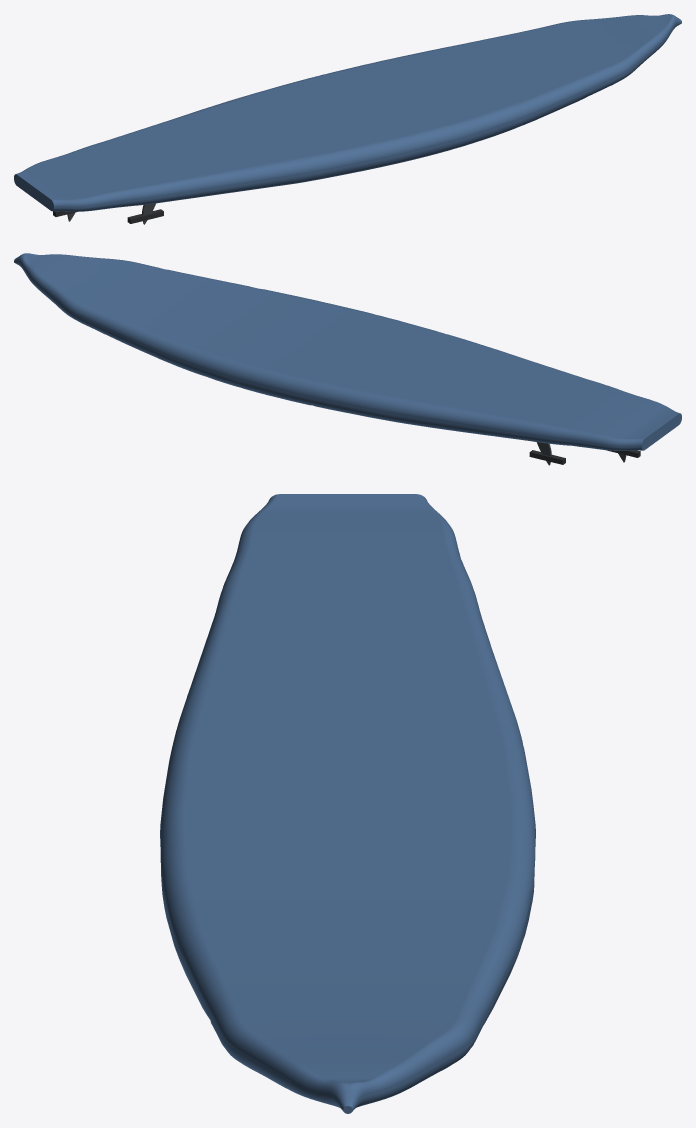
The picture shows the model from 3 angles, top to bottom: view 1: azimuth 30°, elevation 25°; view 2: azimuth 150°, elevation 25°; view 3: azimuth 270°, elevation 25°; orthographic projection. The views are drawn at different scales.
Parts seen in each view (by area): view 1: body.1; view 2: body.1; view 3: body.1.
Boxes of the visible parts, x1,y1,x2,y2 form: body.1: (14, 14, 681, 211); body.1: (14, 253, 681, 450); body.1: (160, 494, 535, 1113).
Bounding box in the file's own units: 2.29 × 0.2043 × 0.5754.
